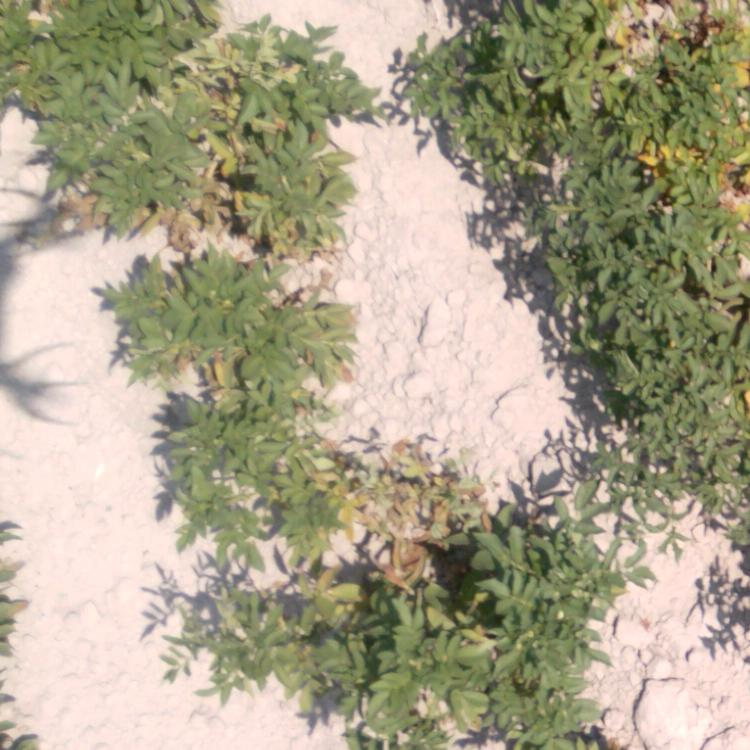healthy: (203, 606, 461, 733), (591, 283, 750, 464), (406, 1, 595, 131), (490, 536, 591, 749), (529, 142, 647, 261), (1, 1, 163, 80)
stressed: (172, 1, 338, 256), (162, 389, 333, 586), (116, 257, 344, 394), (13, 81, 163, 221), (608, 1, 750, 140), (657, 142, 749, 283), (357, 447, 438, 599)
